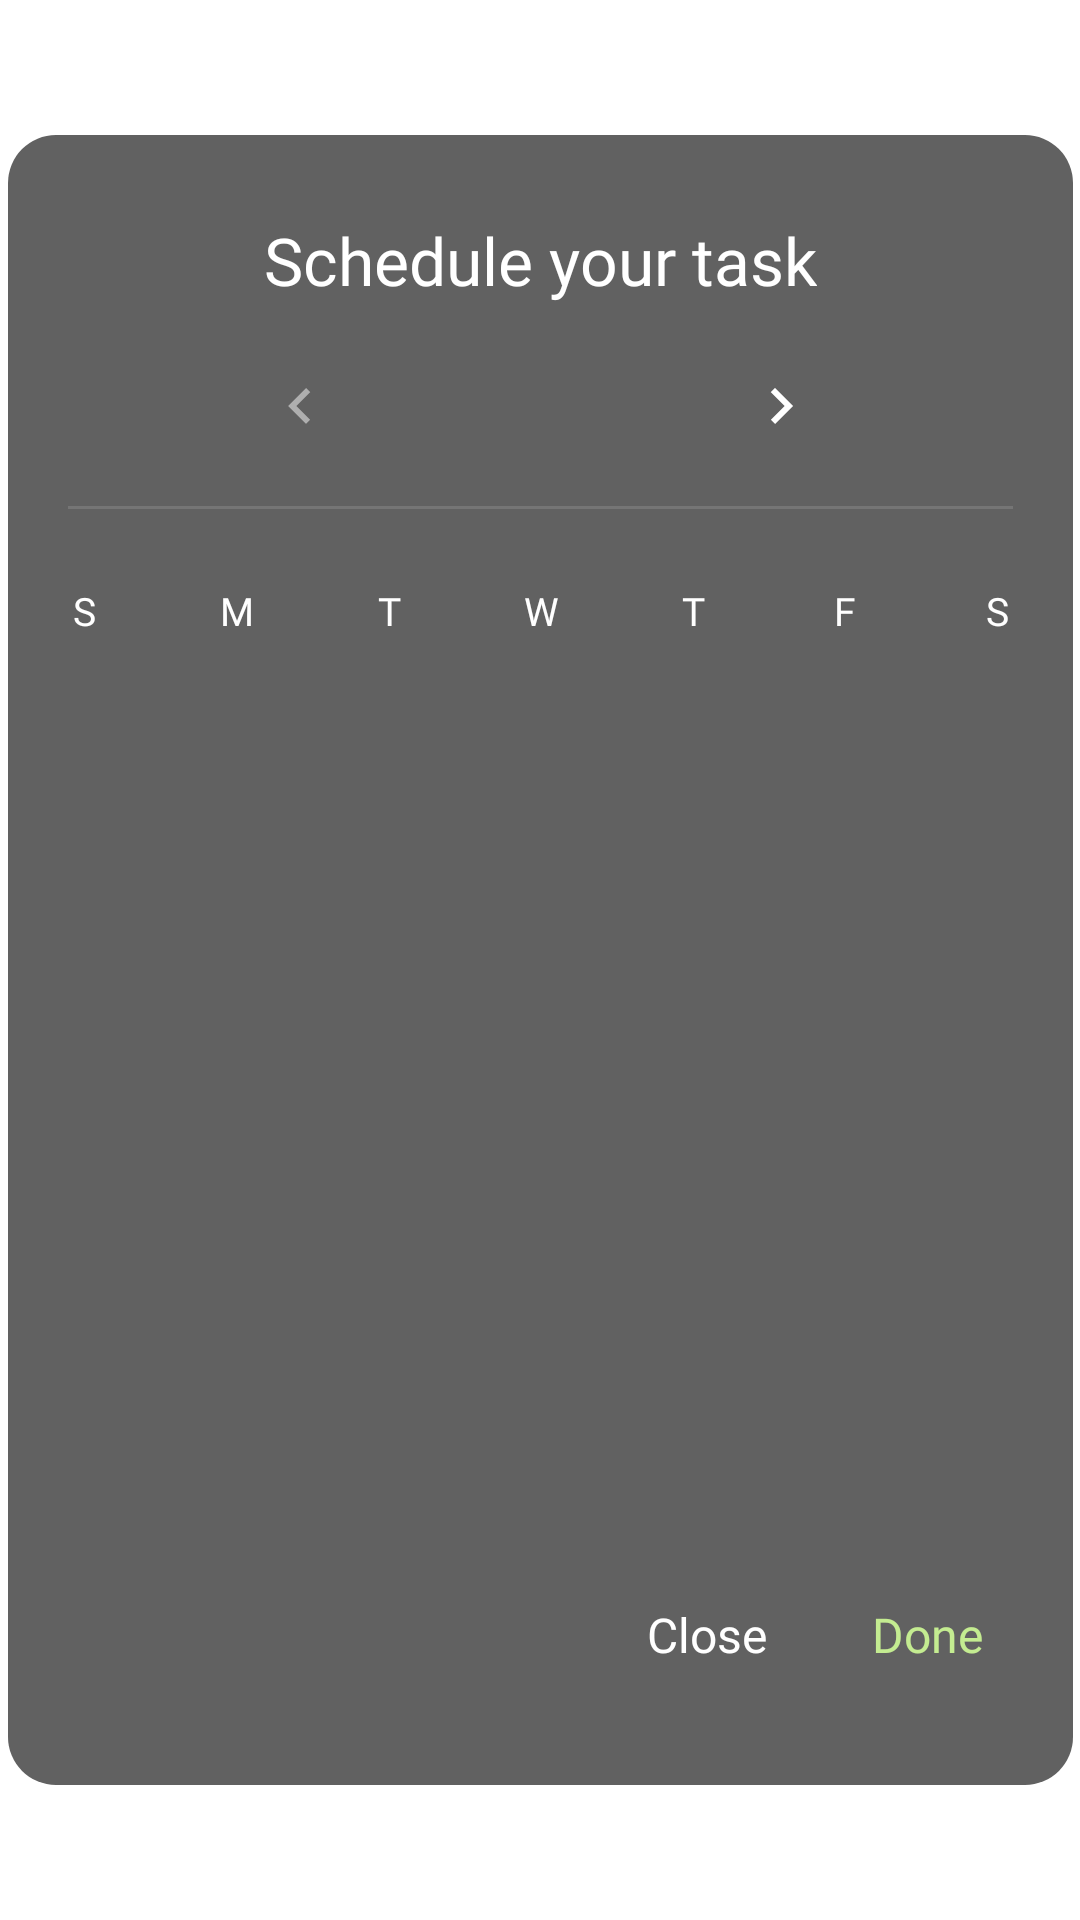

Icon bounding boxes for this 1080x1920 phone screenshot, format (x1, y1, x2, y2):
back: (288, 388, 310, 424)
forward: (771, 388, 793, 424)
